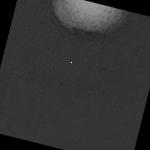colony: (28, 0, 141, 60)
